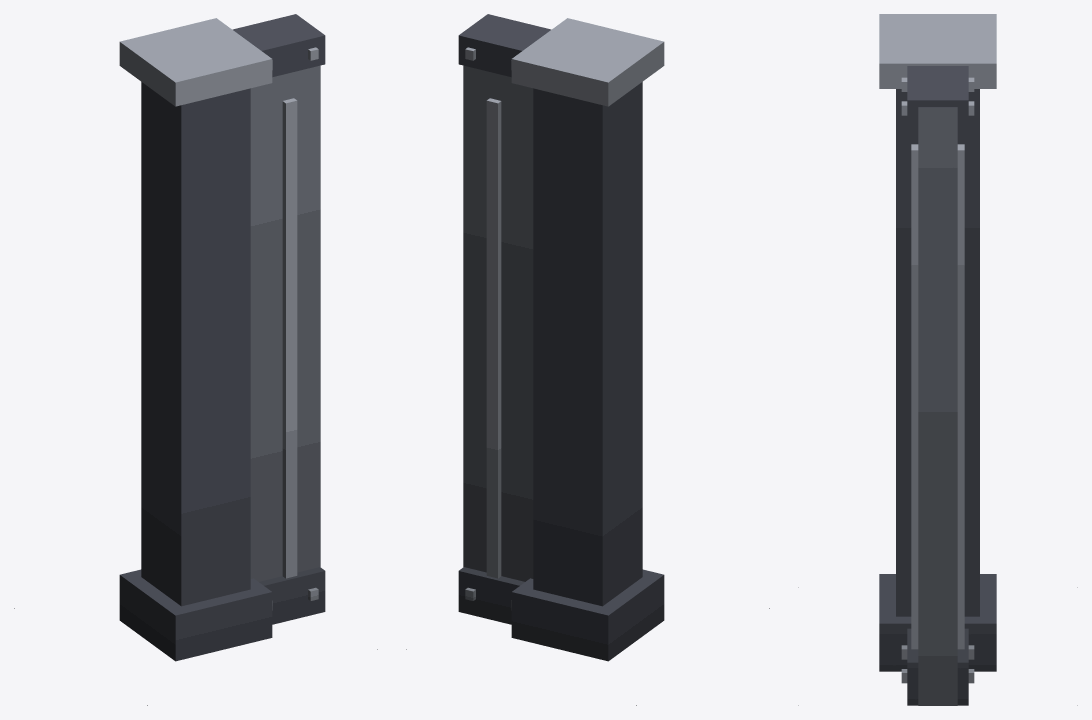
The model's file is wall_metal_end.glb.
The picture shows the model from 3 angles, left to right: view 1: azimuth 30°, elevation 25°; view 2: azimuth 150°, elevation 25°; view 3: azimuth 270°, elevation 25°; orthographic projection. The views are drawn at different scales.
Bounding box in the file's own units: 1 × 2.4 × 1.
Materials: 1 (1 with a texture image).
